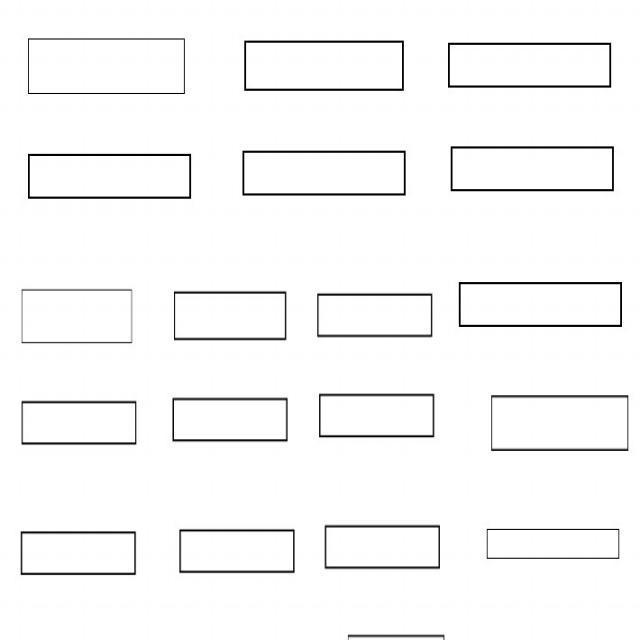textbox: (25, 32, 190, 101), (486, 387, 637, 462), (243, 32, 414, 97), (238, 144, 412, 203), (443, 36, 617, 94), (25, 148, 198, 205), (458, 278, 628, 336), (449, 143, 619, 196), (166, 386, 294, 453), (315, 385, 443, 452), (16, 393, 145, 458), (16, 285, 140, 350), (169, 285, 290, 351), (175, 524, 300, 584), (312, 289, 437, 348), (18, 527, 143, 582), (323, 521, 448, 574), (483, 522, 624, 568)
